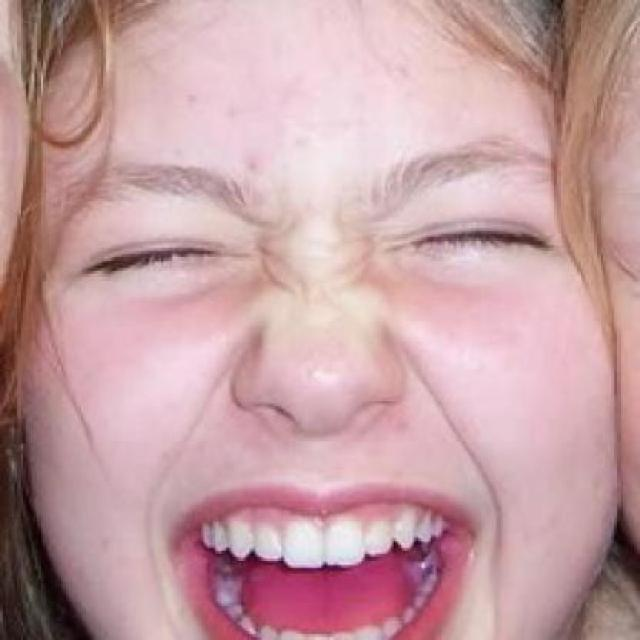drowsy: (82, 230, 230, 296), (386, 211, 546, 266)
